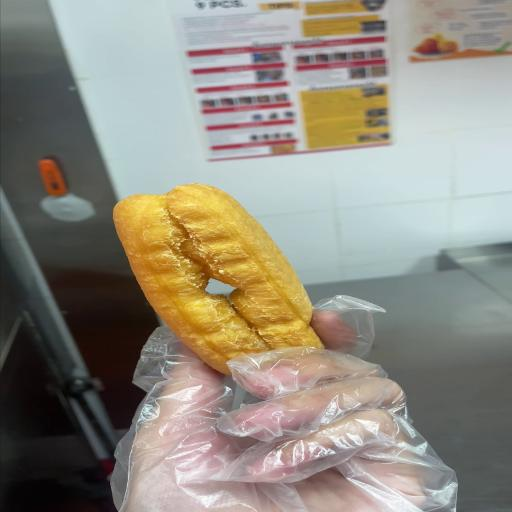brand_golden_defect: (113, 184, 323, 374)
